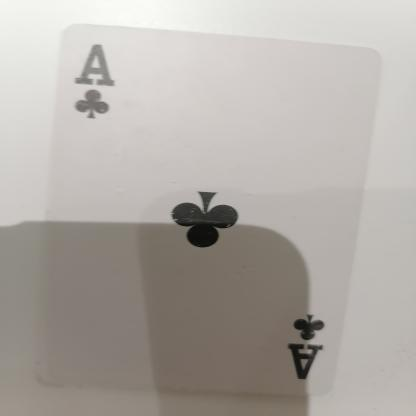AC: (62, 28, 126, 142), (274, 300, 340, 380)
